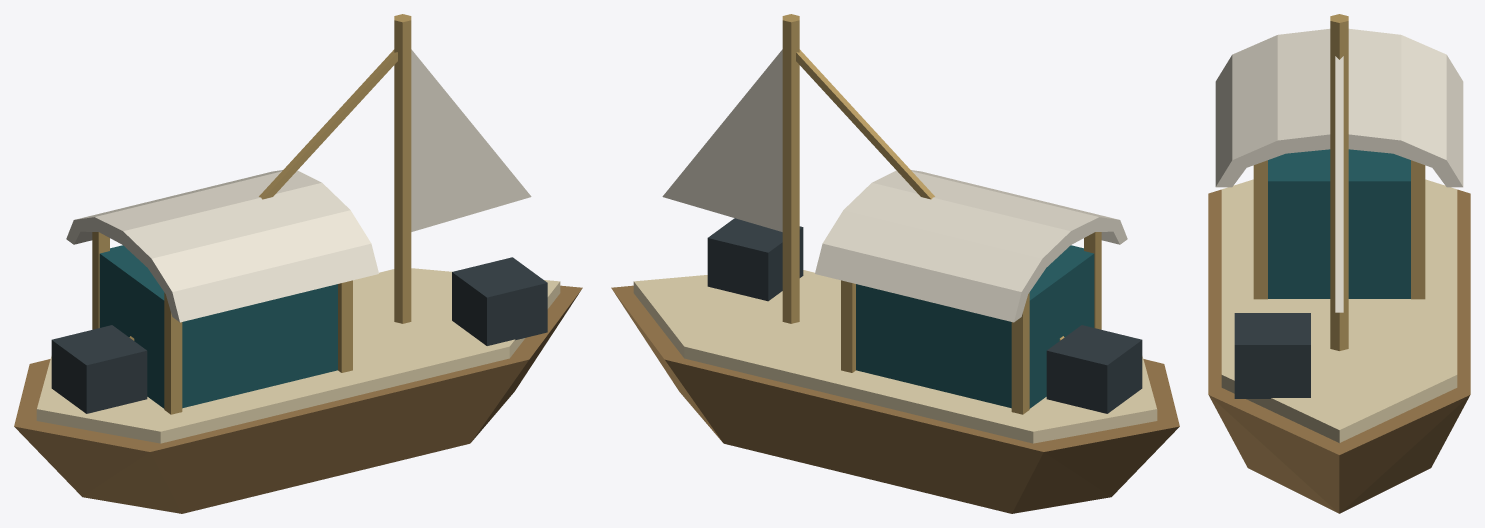
The model's file is VIC_H03_RIVER_TRADE_MODEL_Roblox.fbx.
The picture shows the model from 3 angles, left to right: view 1: azimuth 30°, elevation 25°; view 2: azimuth 150°, elevation 25°; view 3: azimuth 270°, elevation 25°; orthographic projection. The views are drawn at different scales.
Visible parts, largest first — view 1: VIC_H03_RIVER_TRADE_MODEL__Ivory, VIC_H03_RIVER_TRADE_MODEL__Bronze, VIC_H03_RIVER_TRADE_MODEL__Paper, VIC_H03_RIVER_TRADE_MODEL__Teal, VIC_H03_RIVER_TRADE_MODEL__Charcoal, VIC_H03_RIVER_TRADE_MODEL__Brass; view 2: VIC_H03_RIVER_TRADE_MODEL__Ivory, VIC_H03_RIVER_TRADE_MODEL__Bronze, VIC_H03_RIVER_TRADE_MODEL__Paper, VIC_H03_RIVER_TRADE_MODEL__Teal, VIC_H03_RIVER_TRADE_MODEL__Charcoal, VIC_H03_RIVER_TRADE_MODEL__Brass; view 3: VIC_H03_RIVER_TRADE_MODEL__Ivory, VIC_H03_RIVER_TRADE_MODEL__Paper, VIC_H03_RIVER_TRADE_MODEL__Bronze, VIC_H03_RIVER_TRADE_MODEL__Teal, VIC_H03_RIVER_TRADE_MODEL__Brass, VIC_H03_RIVER_TRADE_MODEL__Charcoal.
Part boxes in pixels (<box>): VIC_H03_RIVER_TRADE_MODEL__Ivory: <box>66,49,531,322</box>; VIC_H03_RIVER_TRADE_MODEL__Bronze: <box>14,285,582,513</box>; VIC_H03_RIVER_TRADE_MODEL__Paper: <box>36,268,560,443</box>; VIC_H03_RIVER_TRADE_MODEL__Teal: <box>99,245,337,408</box>; VIC_H03_RIVER_TRADE_MODEL__Charcoal: <box>51,257,547,413</box>; VIC_H03_RIVER_TRADE_MODEL__Brass: <box>92,14,411,414</box>; VIC_H03_RIVER_TRADE_MODEL__Ivory: <box>662,49,1127,322</box>; VIC_H03_RIVER_TRADE_MODEL__Bronze: <box>611,285,1179,513</box>; VIC_H03_RIVER_TRADE_MODEL__Paper: <box>633,270,1157,443</box>; VIC_H03_RIVER_TRADE_MODEL__Teal: <box>856,245,1094,408</box>; VIC_H03_RIVER_TRADE_MODEL__Charcoal: <box>707,218,1142,413</box>; VIC_H03_RIVER_TRADE_MODEL__Brass: <box>782,14,1101,414</box>; VIC_H03_RIVER_TRADE_MODEL__Ivory: <box>1215,28,1463,312</box>; VIC_H03_RIVER_TRADE_MODEL__Paper: <box>1221,179,1457,442</box>; VIC_H03_RIVER_TRADE_MODEL__Bronze: <box>1208,189,1470,513</box>; VIC_H03_RIVER_TRADE_MODEL__Teal: <box>1268,149,1410,298</box>; VIC_H03_RIVER_TRADE_MODEL__Brass: <box>1253,14,1425,350</box>; VIC_H03_RIVER_TRADE_MODEL__Charcoal: <box>1234,313,1310,398</box>.
Bounding box in the file's own units: 3 × 2.02 × 1.1.
